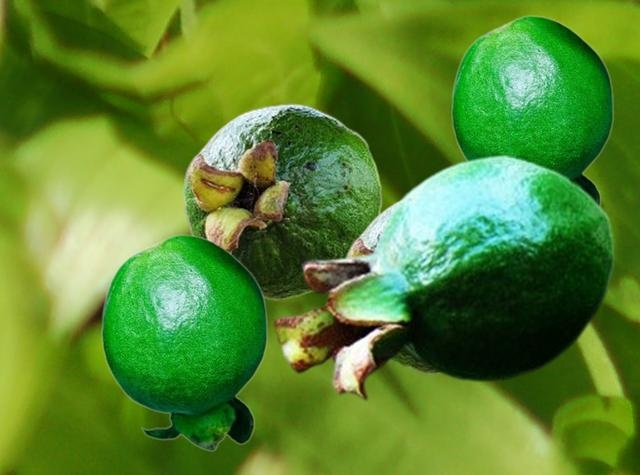guava: (272, 153, 615, 400), (182, 103, 382, 300), (100, 234, 267, 450), (450, 15, 613, 202), (344, 196, 437, 374)
